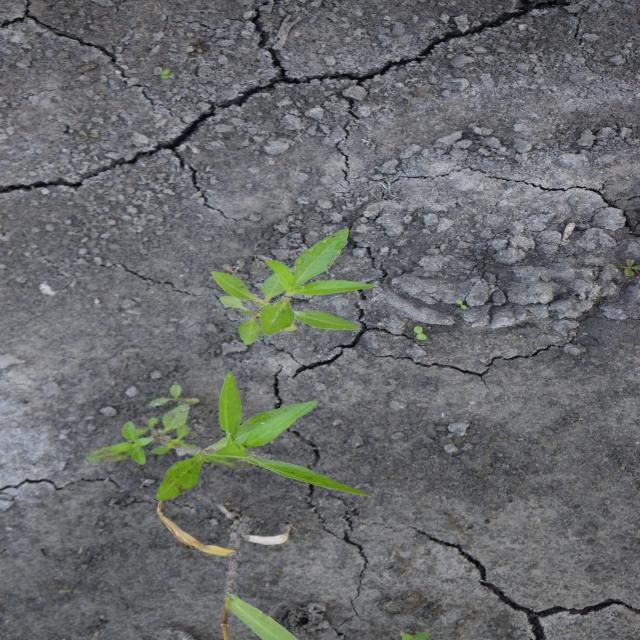Eclipta: (84, 368, 375, 504), (207, 227, 377, 346)
